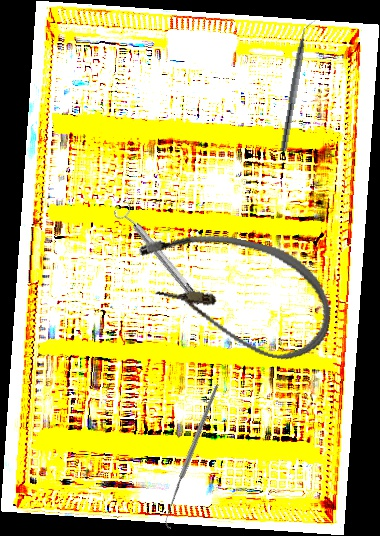Cannula: (122, 217, 344, 369)
Chopper: (280, 17, 317, 153)
Fixation Ring: (112, 200, 207, 310)
Hook Surgical: (115, 382, 271, 531)
